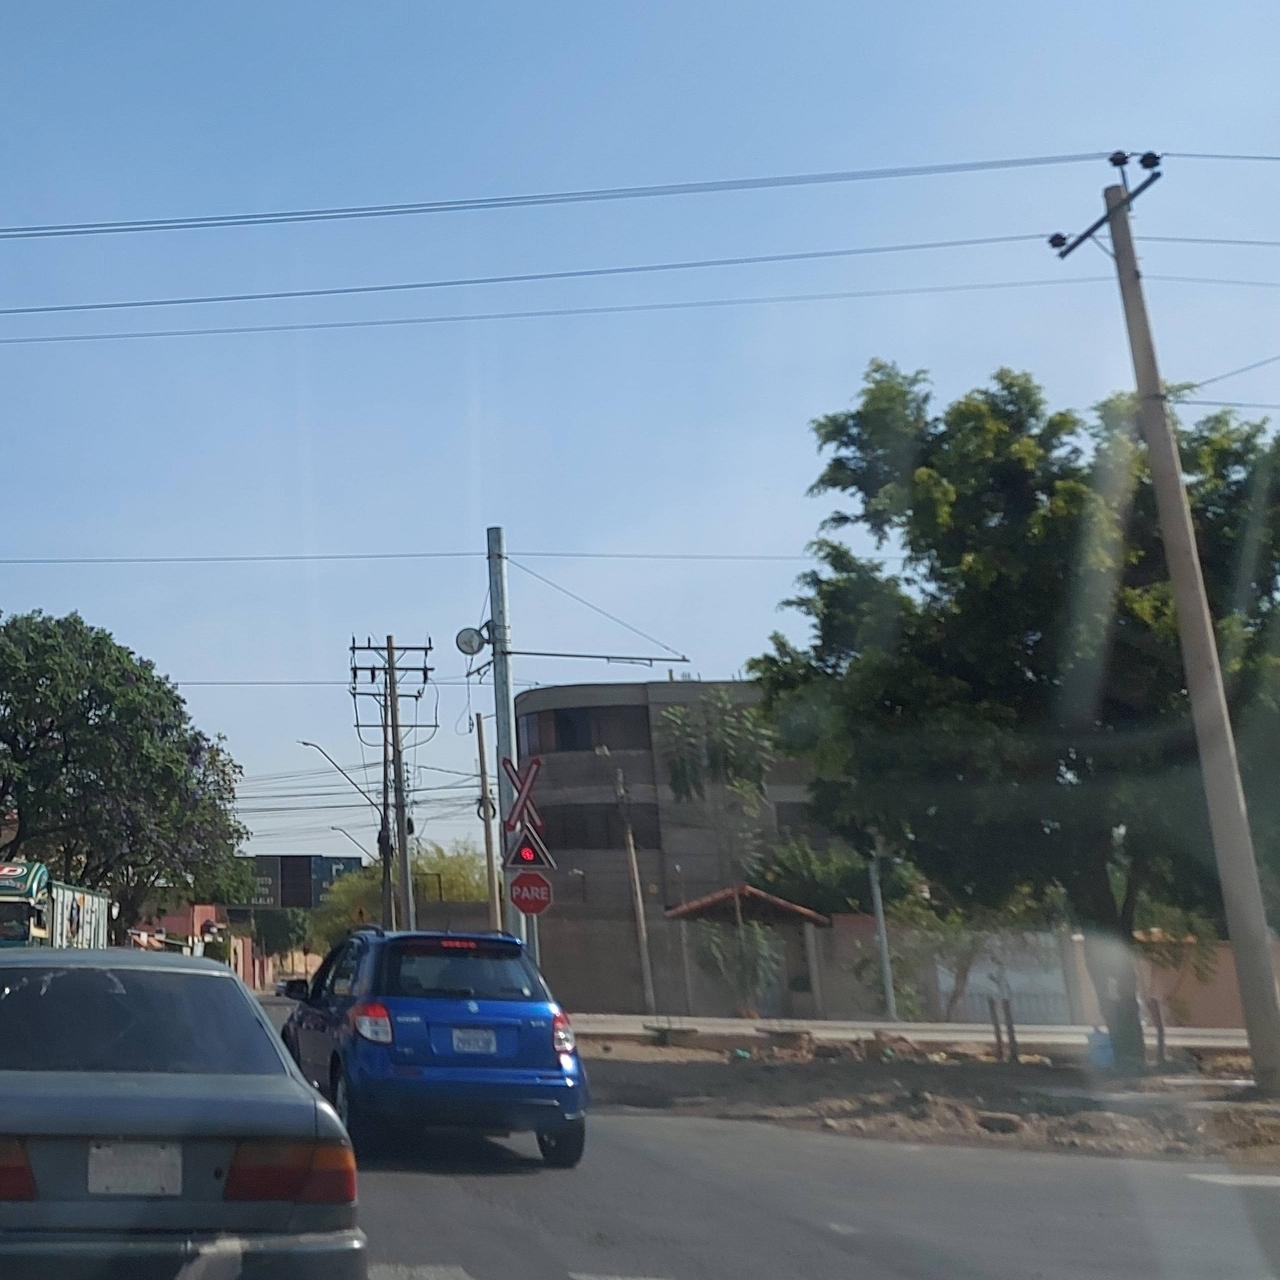pare: (509, 872, 553, 914)
